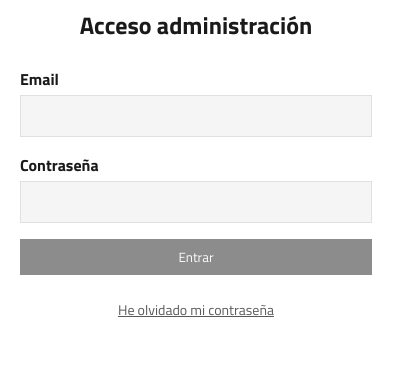
Test: AdminLogin › muestra «Credenciales inválidas» en 401
In the field labelled "Email": point(196, 116) [20,95,372,137], type "admin@example.com"
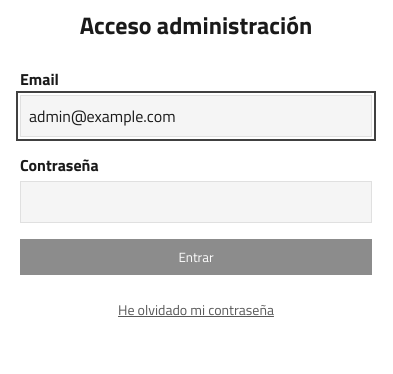
In the password field labelled "Contraseña": point(196, 202) [20,181,372,223], type "malo1234"
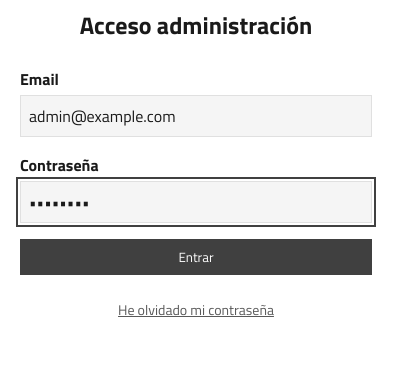
Click the button "Entrar": point(196, 257) [20,239,372,275]
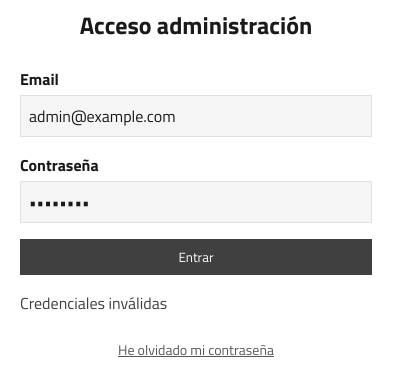
Result: the message reads "Credenciales inválidas" at [20,291,167,315]
